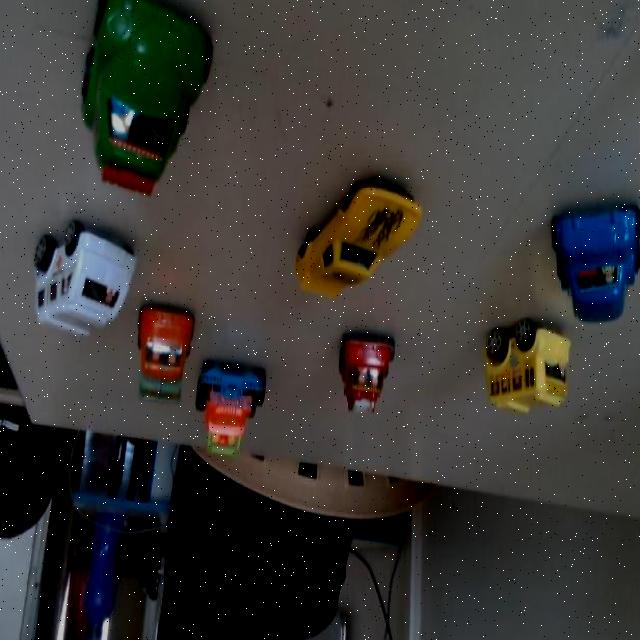car: (62, 16, 206, 187), (281, 172, 427, 308), (20, 202, 143, 354), (547, 196, 640, 328), (474, 311, 564, 414), (197, 364, 276, 466), (324, 318, 399, 425), (130, 303, 195, 417)
